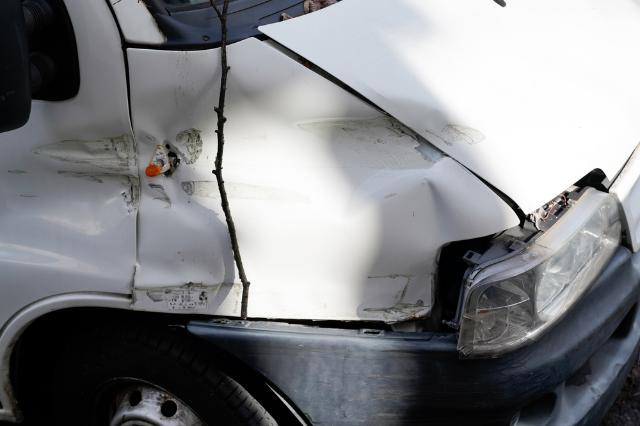dent: (228, 93, 461, 251), (0, 118, 137, 271), (383, 99, 467, 154)
lamp broken: (453, 187, 624, 359)
